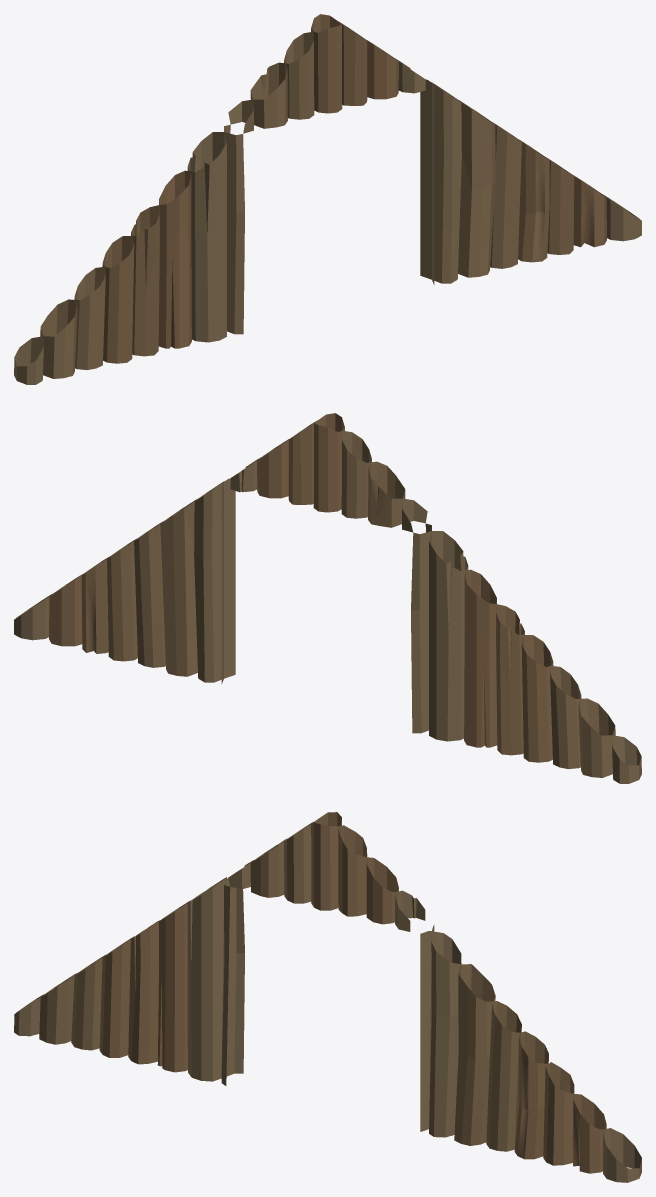
Rendered from rpgpp_ag_roof_end_01_9x4_wall_door_02d.fbx.
3 views of the same model, one above another, from view 1: azimuth 30°, elevation 25°; view 2: azimuth 150°, elevation 25°; view 3: azimuth 330°, elevation 25° (orthographic).
Parts seen in each view (by area): view 1: rpgpp_ag_roof_end_01_9x4_wall_door_02d; view 2: rpgpp_ag_roof_end_01_9x4_wall_door_02d; view 3: rpgpp_ag_roof_end_01_9x4_wall_door_02d.
Boxes of the visible parts, left/top/right/bottom form: rpgpp_ag_roof_end_01_9x4_wall_door_02d: left=14, top=14, right=641, bottom=384; rpgpp_ag_roof_end_01_9x4_wall_door_02d: left=14, top=413, right=641, bottom=783; rpgpp_ag_roof_end_01_9x4_wall_door_02d: left=14, top=812, right=641, bottom=1182.
Bounding box in the file's own units: 9 × 3.93 × 0.4626.
